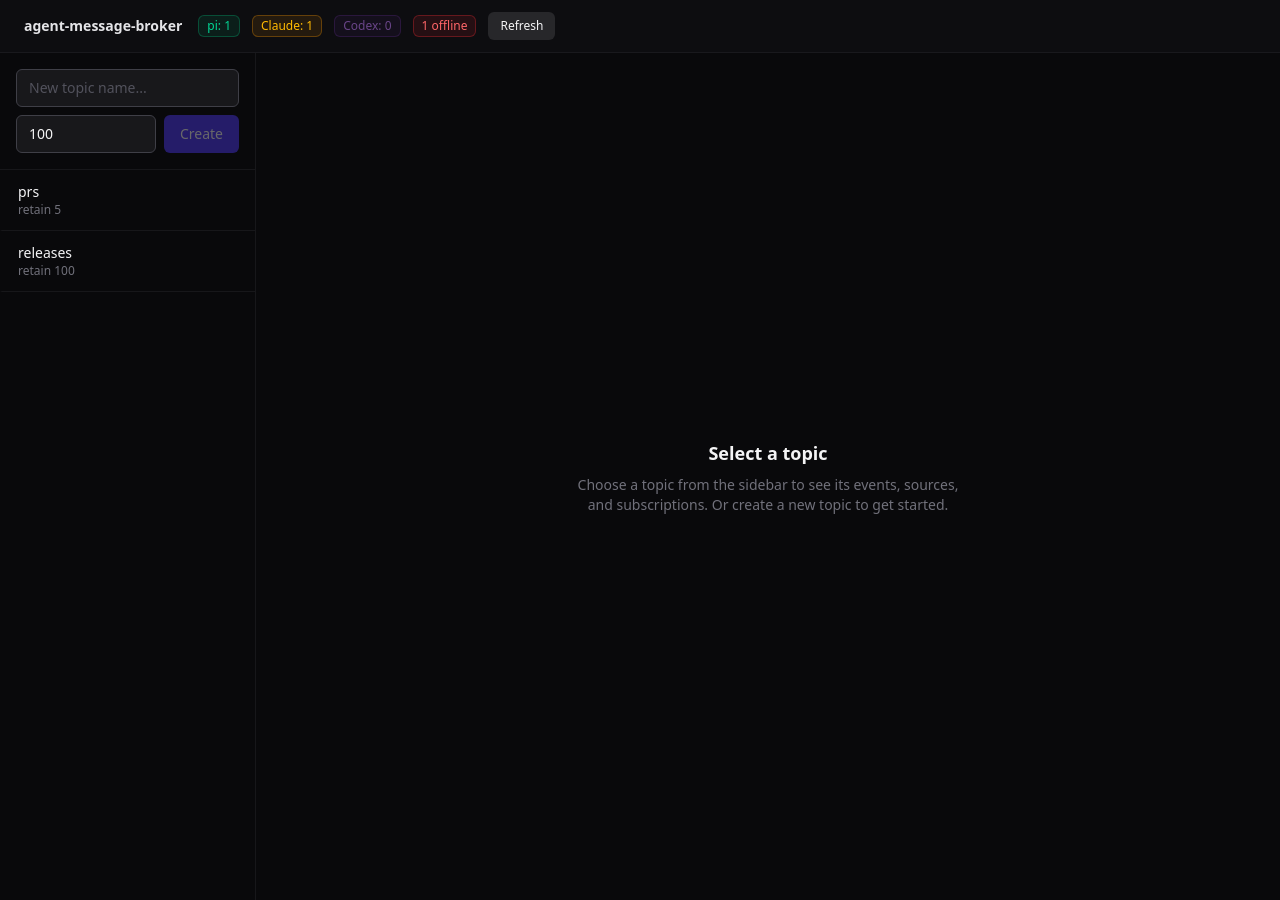
Test: App (jsdom) › creates a topic from the sidebar and selects it
expect the text "prs" is shown: met, box [18,182,39,201]
Type "new-topic" into the field with placeholder "New topic name...".
click(128, 88); type("new-topic")  # box [16,69,239,107]
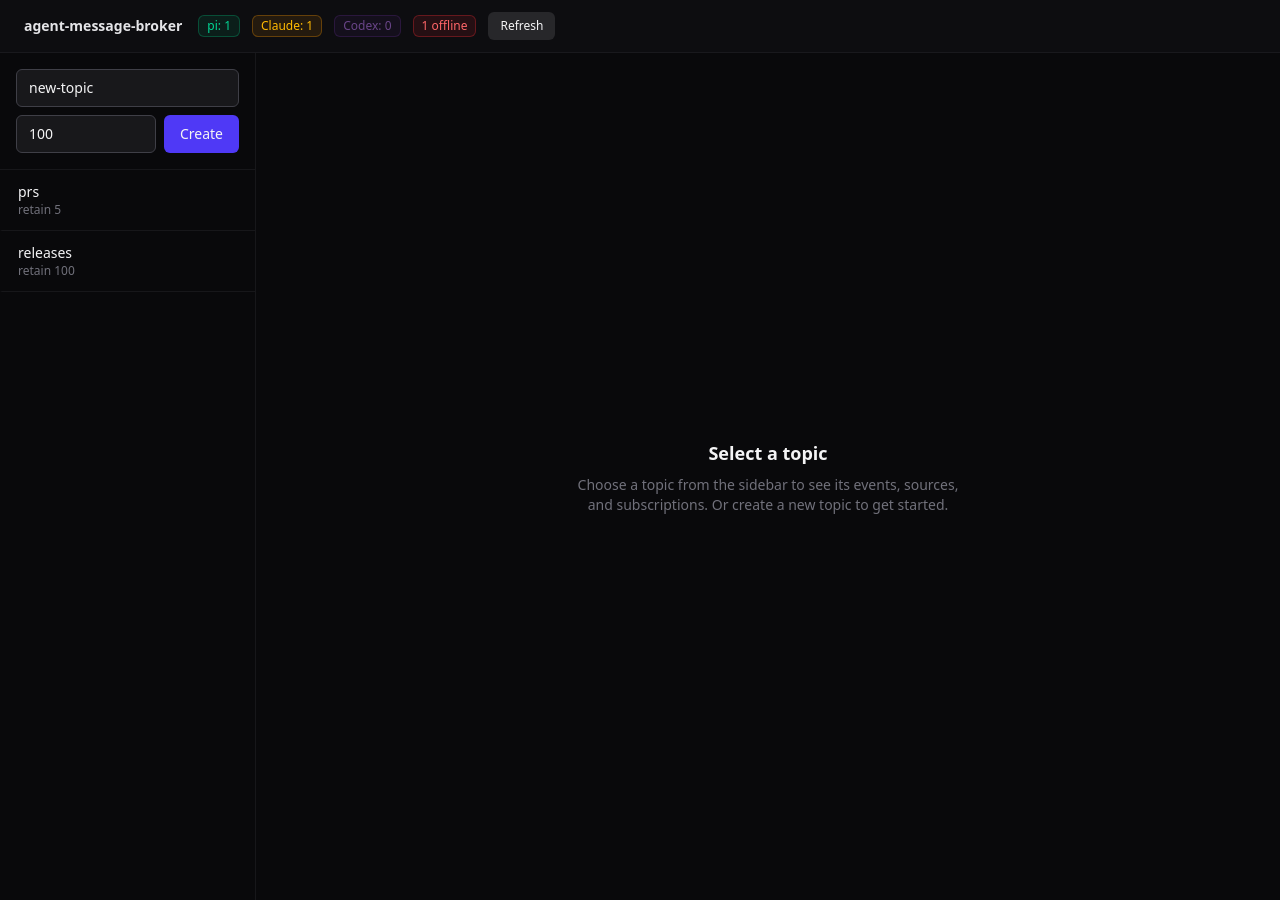
Press Enter in the field with placeholder "New topic name...", box [16,69,239,107]
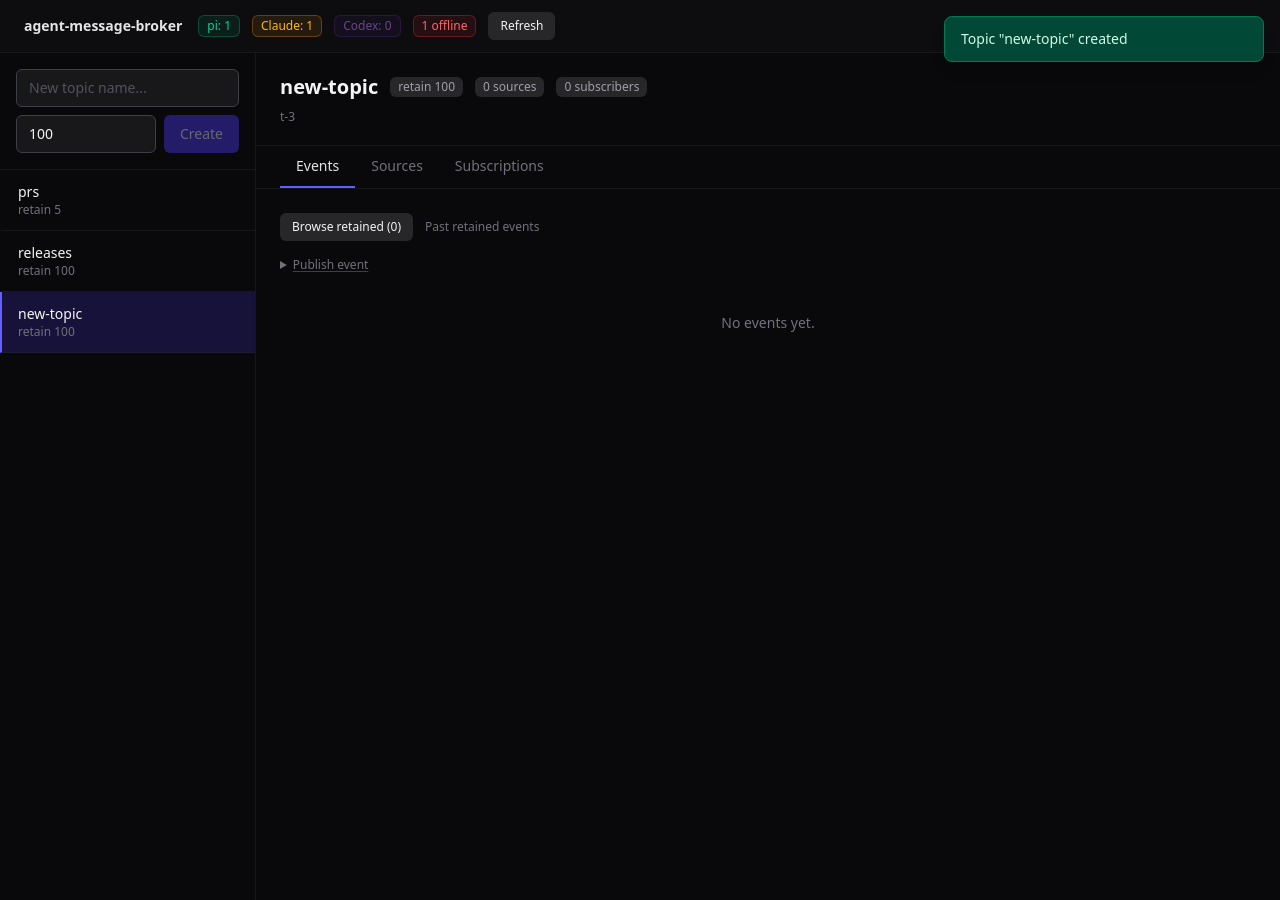
expect the text "retain 100" below "releases" is shown: met, box [18,262,75,279]
expect the text "new-topic" is shown: met, box [18,304,82,323]
